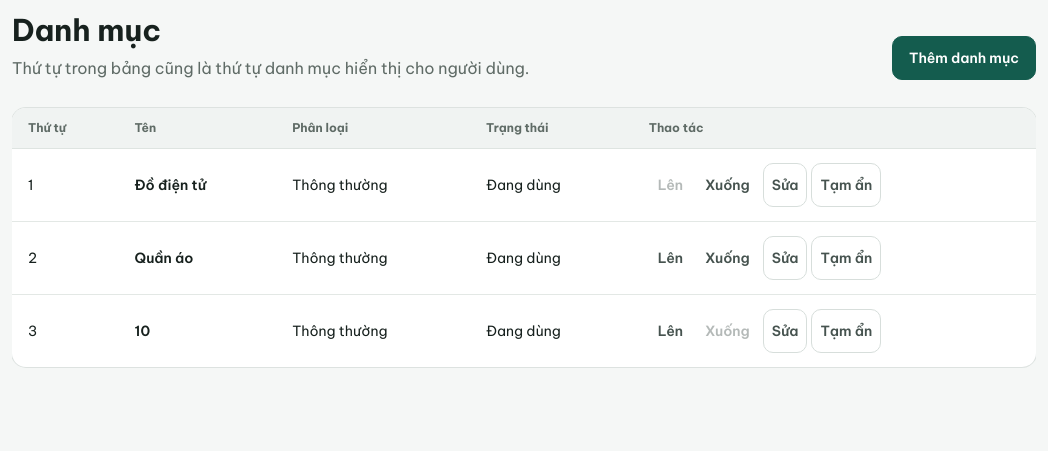
it: ApiAdminCategories › chuyển xuống gửi toàn bộ id theo thứ tự mới rồi hiện danh sách Backend trả về
Expected: the text "Đồ điện tử" is shown, [119, 148, 276, 222]
Click the button "Xuống" in the row of "Đồ điện tử" at (727,185), box [696, 163, 759, 207]
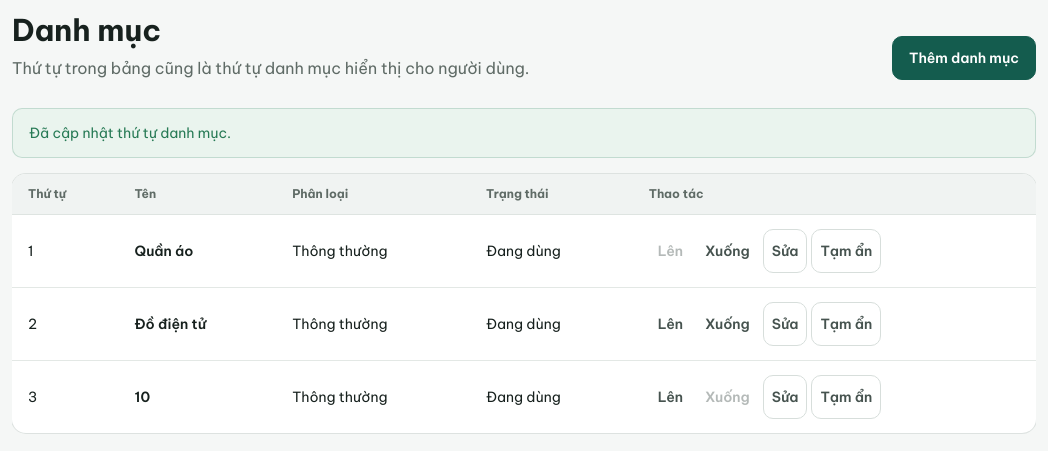
Expected: the text "Đã cập nhật thứ tự danh mục." is shown, [12, 108, 1036, 158]
